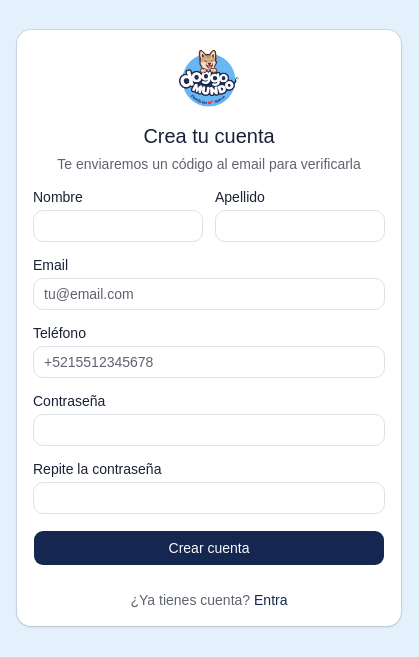
it: RegisterPage — client validation › rejects an invalid Mexican phone
In the field labelled "Nombre": (118, 226) [33,210,203,242], type "Vale"
In the field labelled "Apellido": (300, 226) [215,210,385,242], type "Pérez"
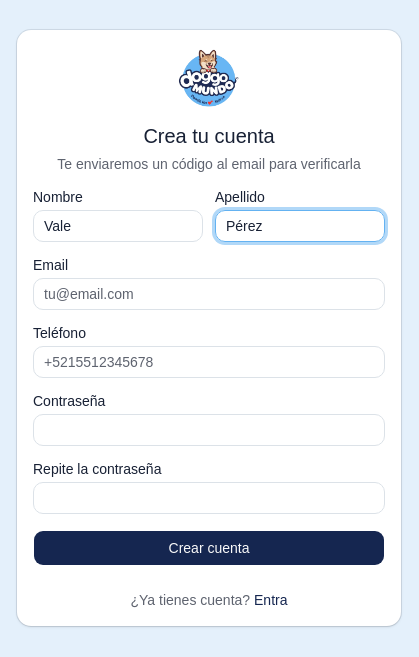
In the field labelled "Email": (209, 294) [33,278,385,310], type "v@example.com"
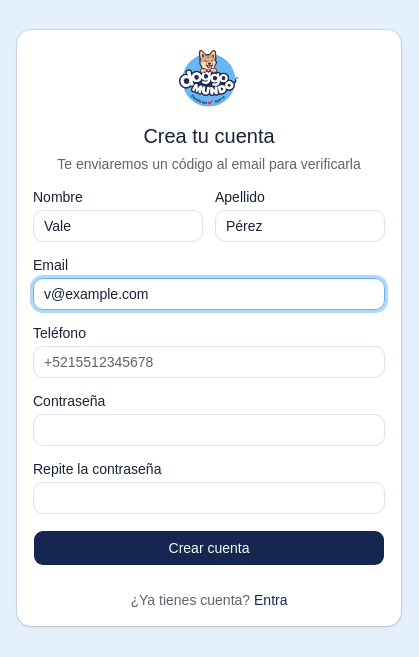
In the field labelled "Teléfono": (209, 362) [33,346,385,378], type "abc"
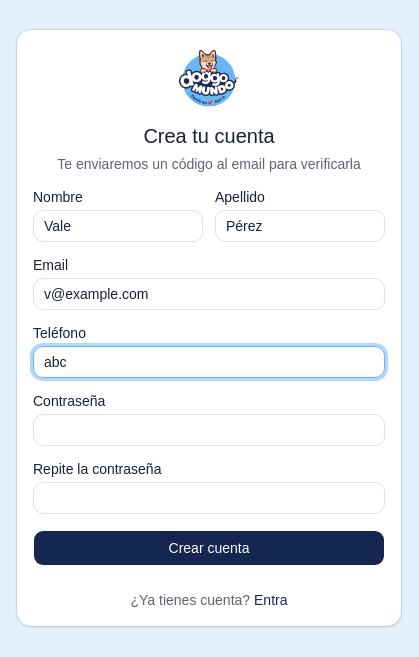
In the password field labelled "Contraseña": (209, 430) [33,414,385,446], type "abcd1234"
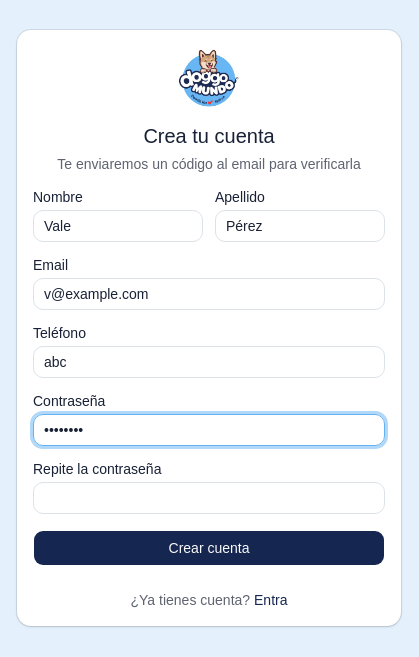
In the password field labelled "Repite la contraseña": (209, 498) [33,482,385,514], type "abcd1234"
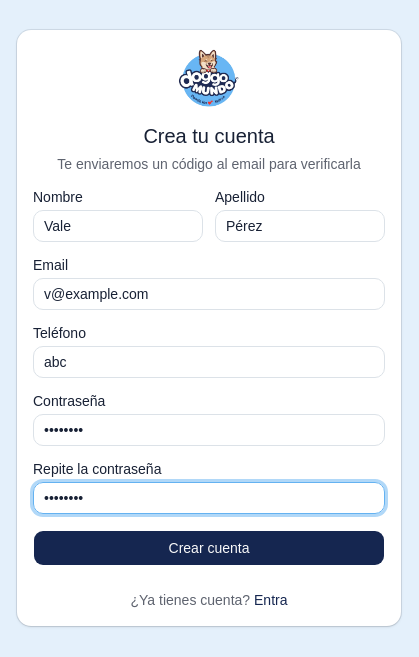
Click the button "Crear cuenta": (209, 548) [33,530,385,566]
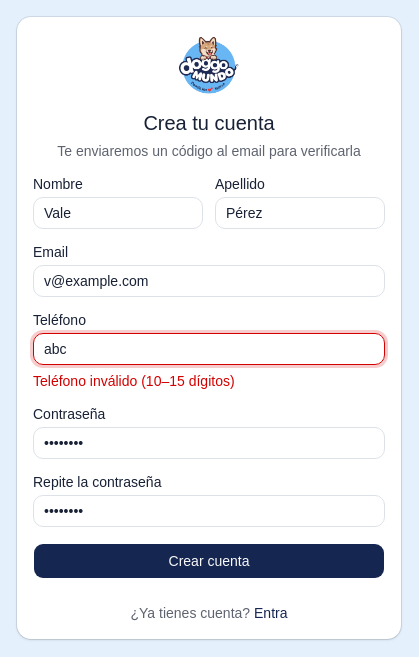
Now the text "Teléfono inválido (10–15 dígitos)" is shown, box [33,373,235,389]
